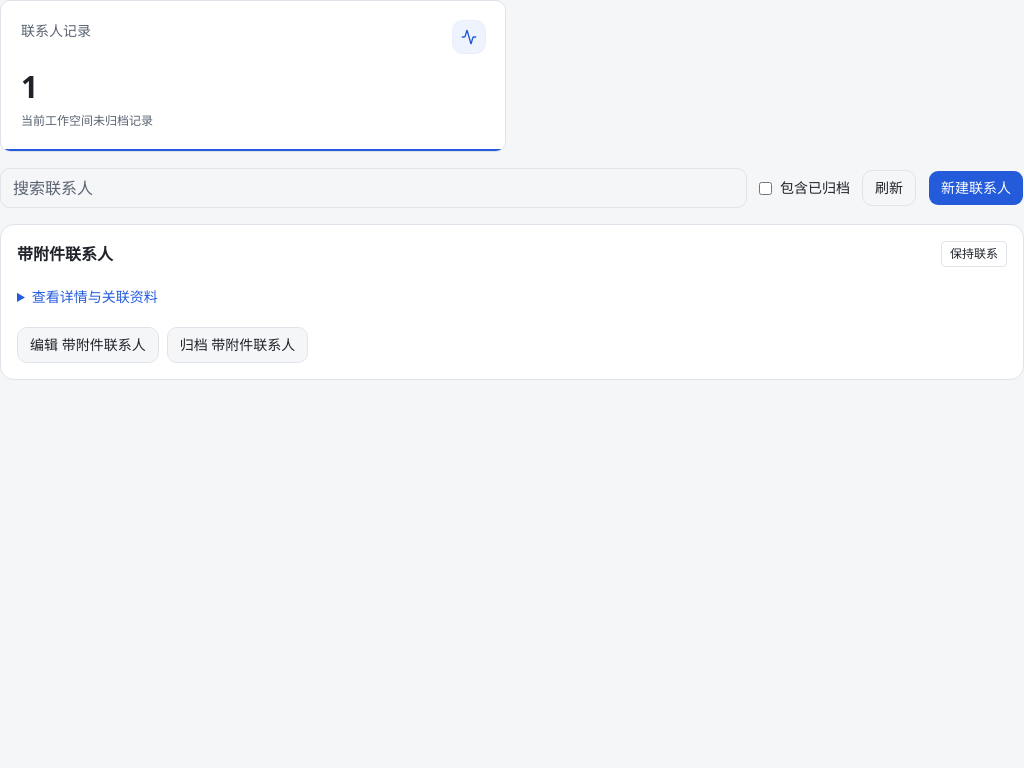
Test: opens saved local attachment content through the record's authorized endpoint
The width and height of the screenshot is (1024, 768).
Click the heading "查看详情与关联资料": (95, 296) [32,287,158,306]
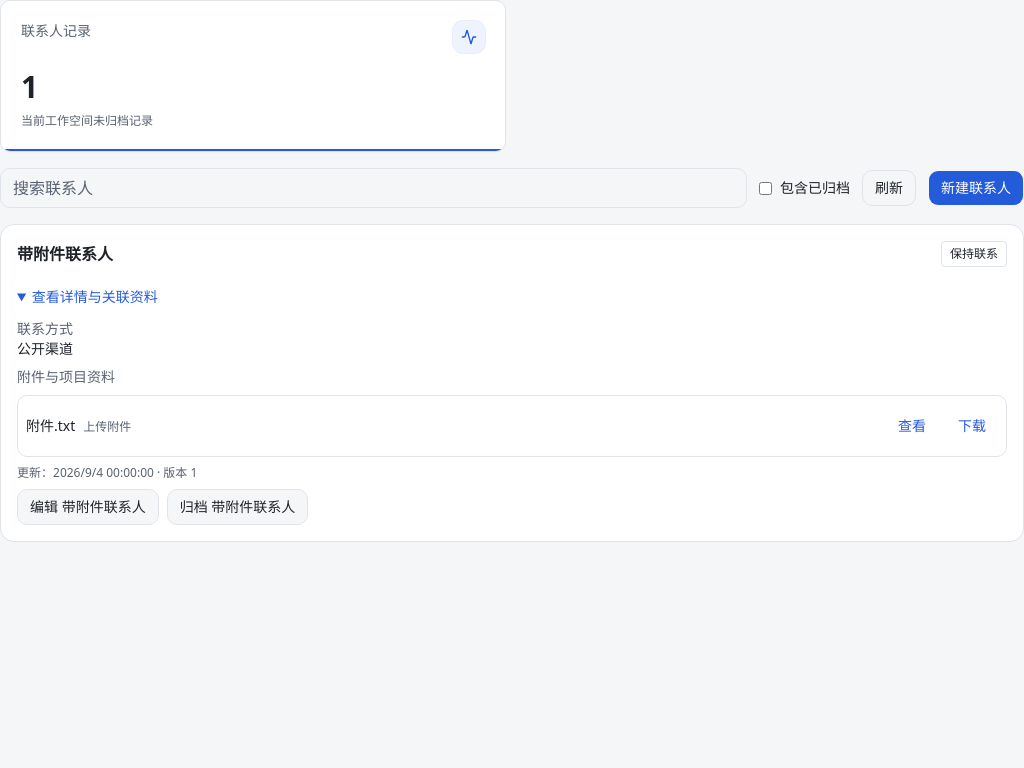
Click the button with aria-label "查看 附件.txt": (912, 426) [886,404,938,448]
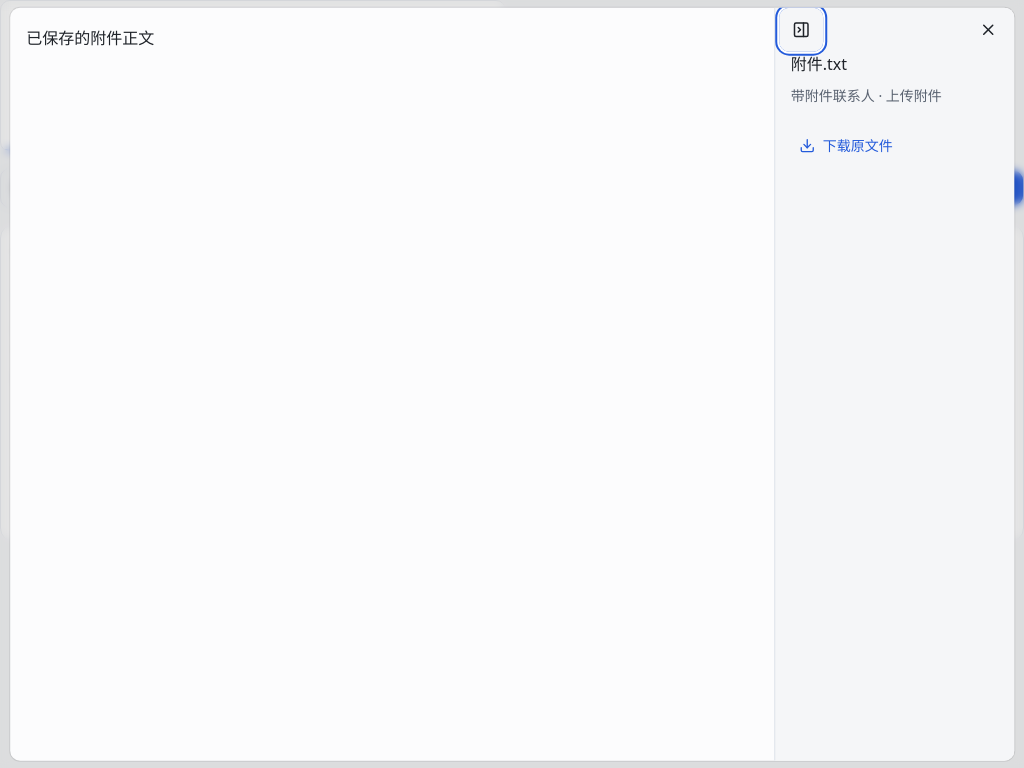
Now the text "已保存的附件正文" is shown, box [26,27,154,49]
